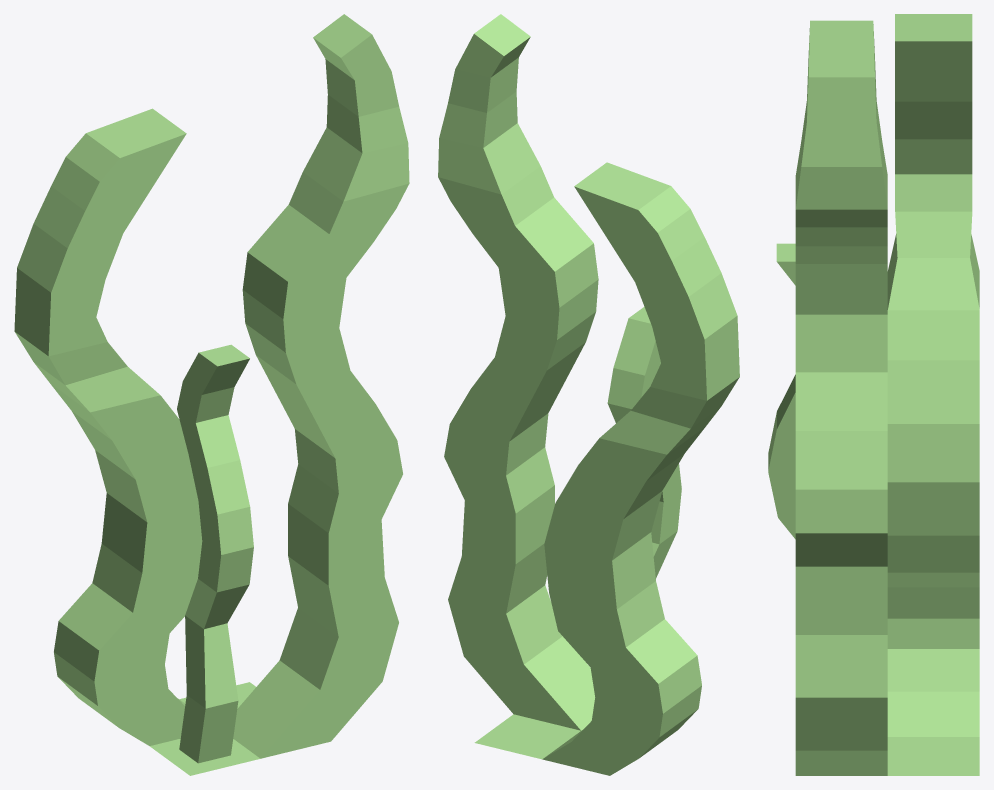
The model's file is Seawee1 1.fbx.
3 renders of one model, left to right at view 1: azimuth 30°, elevation 25°; view 2: azimuth 150°, elevation 25°; view 3: azimuth 270°, elevation 25°, orthographic. The views are drawn at different scales.
Visible parts, largest first — view 1: Plane; view 2: Plane; view 3: Plane.
Part boxes in pixels (left/top/right/bottom): Plane: left=14, top=14, right=409, bottom=775; Plane: left=438, top=14, right=739, bottom=775; Plane: left=768, top=14, right=979, bottom=775.
Size of the model in its own units: 452 by 937 by 230.
